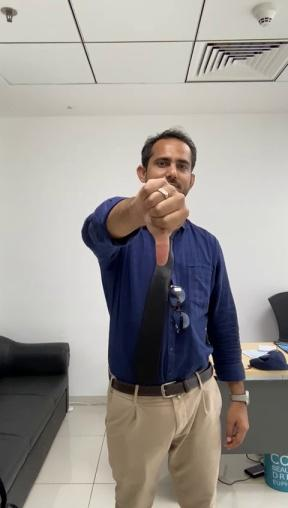thumbs-down: (138, 178, 186, 265)
